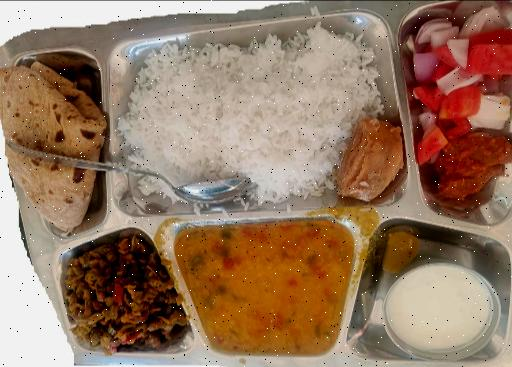Curd: (375, 262, 504, 359)
Dal: (188, 230, 350, 349)
Pickle: (434, 142, 512, 218)
Rice: (120, 30, 382, 200)
Roti: (0, 64, 100, 225)
Salad: (412, 9, 512, 126)
Sweet: (332, 120, 406, 200)
Vegetable: (55, 246, 183, 350)
